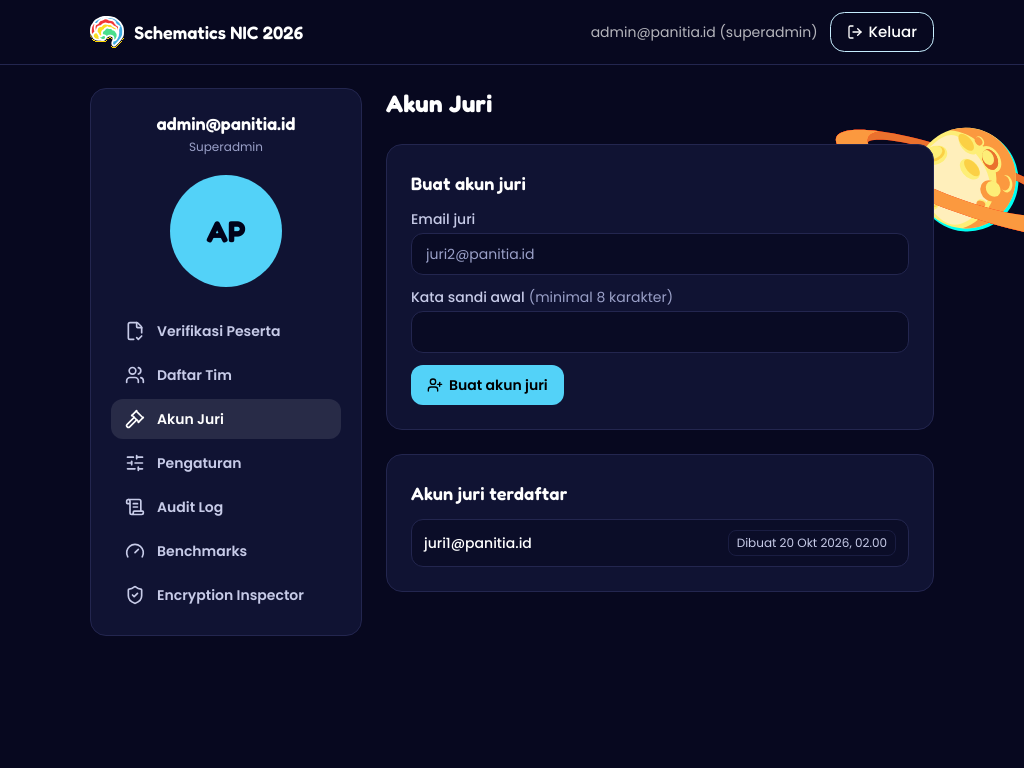
Test case: Superadmin juri accounts › reports 409 email_taken without clearing what the admin typed
The image size is (1024, 768).
Expected: the list with test id "juri-accounts-list" is shown, top-left (411, 519), bottom-right (909, 567)
Type "juri1@panitia.id" into the field with test id "juri-email-input" at (660, 254), box top-left (411, 233), bottom-right (909, 275)
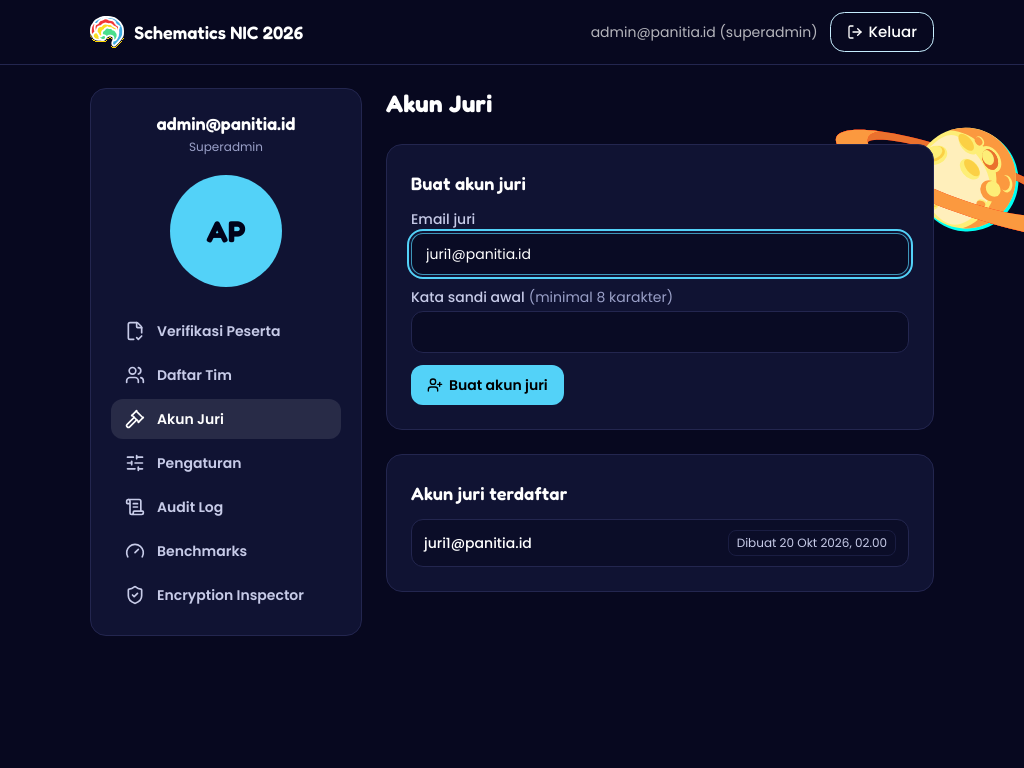
Type "rahasia-panjang-456" into the password field with test id "juri-password-input" at (660, 332), box top-left (411, 311), bottom-right (909, 353)
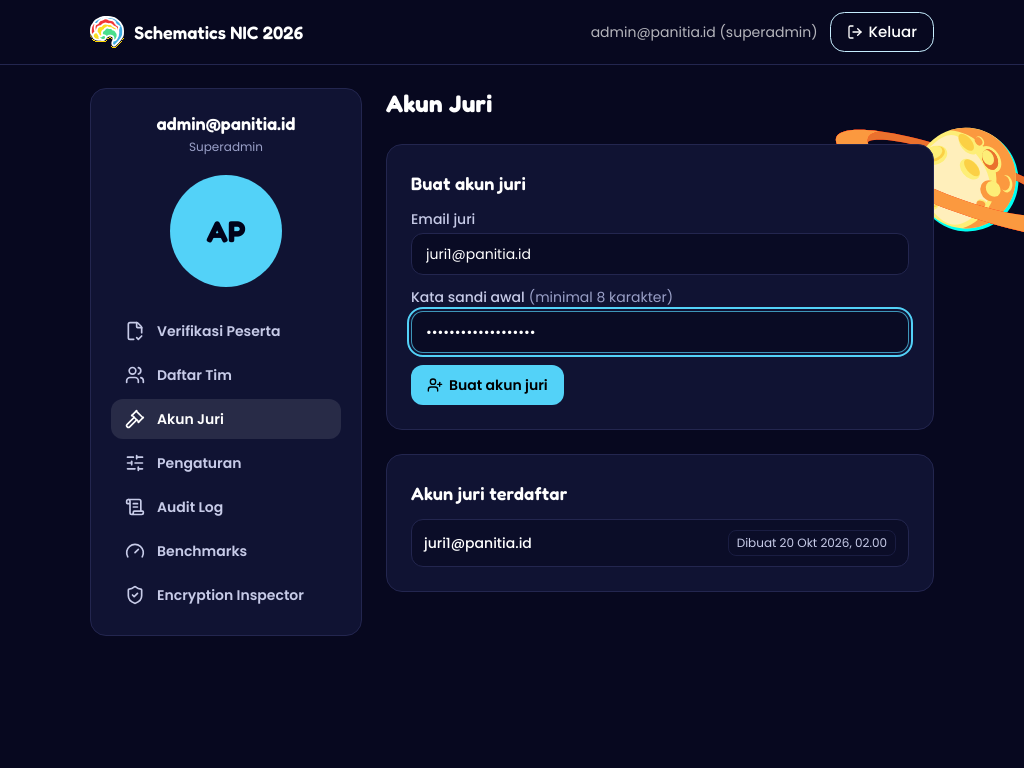
Click the button with test id "create-juri-btn" at (487, 385), box top-left (411, 365), bottom-right (564, 405)
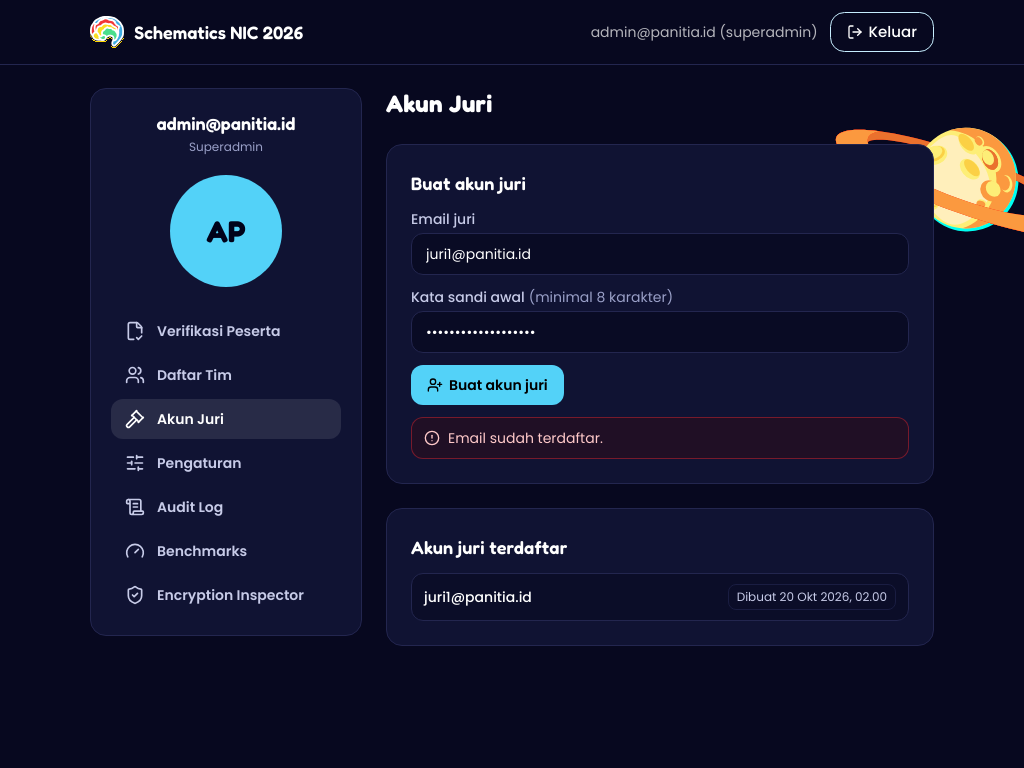
Expected: the message with test id "create-juri-error" shows "Email", top-left (448, 428), bottom-right (603, 448)
